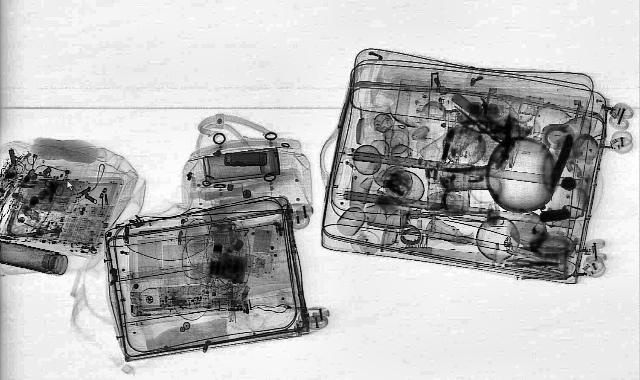Pliers: (504, 260, 560, 268)
Wrench: (1, 224, 65, 242)
